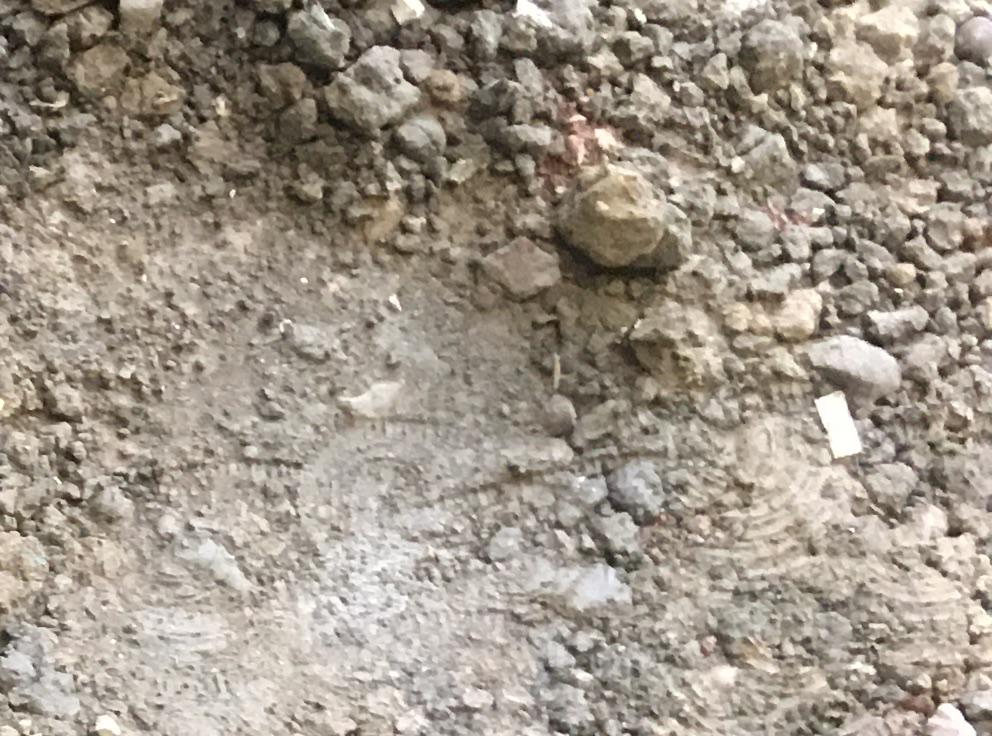block: (556, 166, 701, 275), (319, 42, 426, 135)
